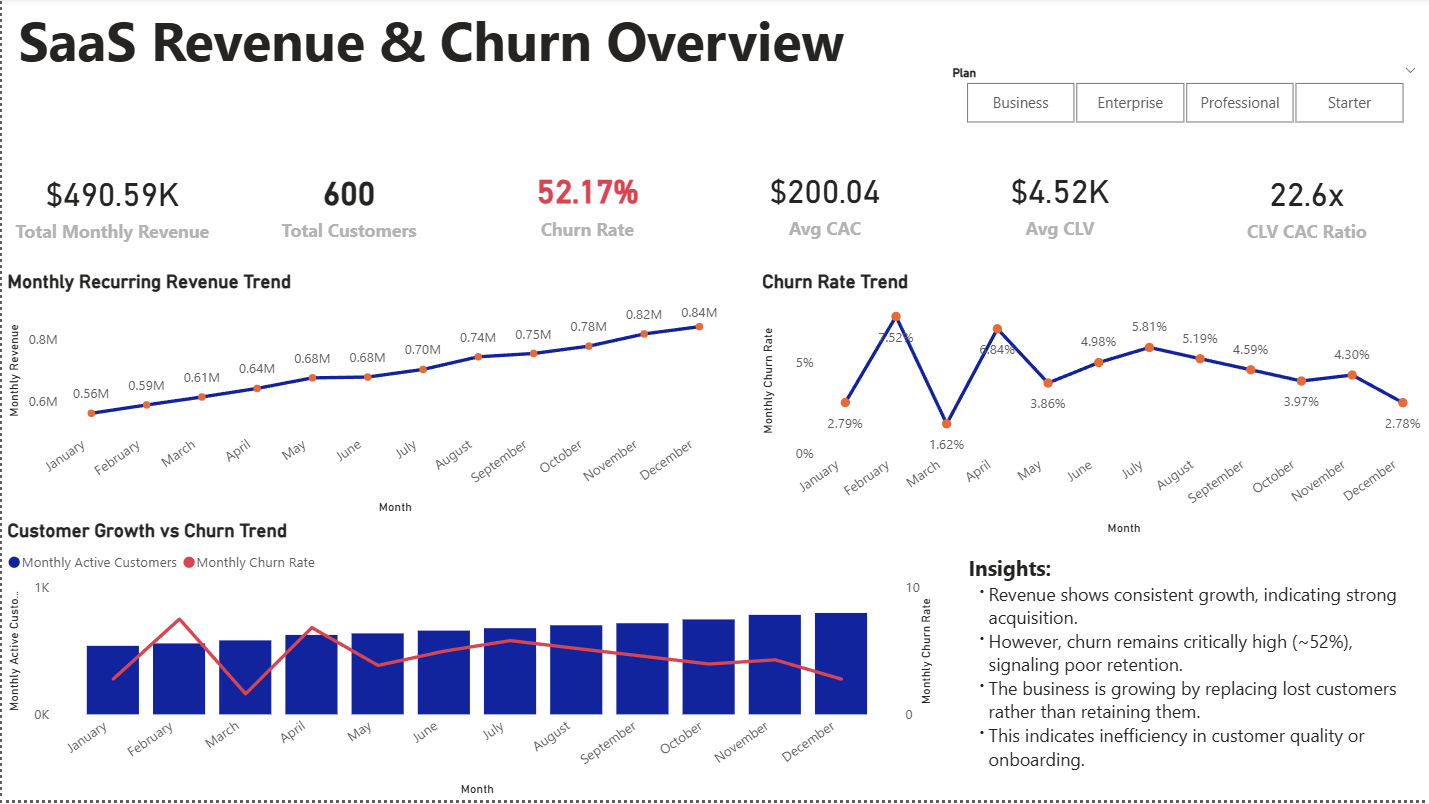

The dashboard page shown, as its layout file describes it:
{"tool":"powerbi","page":{"name":"EXECUTIVE OVERVIEW","canvas":[1280,720],"ordinal":0},"visuals":[{"type":"textbox","box":[9.8,0,778.8,88.2],"z":0},{"type":"card","fields":{"Values":["Measures (2).Total Customers"]},"box":[210.1,142.9,201.7,84],"z":1000},{"type":"card","fields":{"Values":["Measures (2).Churn Rate"]},"box":[424.4,138.7,200.3,89.6],"z":2000},{"type":"card","fields":{"Values":["Measures (2).CLV CAC Ratio"]},"box":[1058.7,142.9,221.3,85.4],"z":3000},{"type":"card","fields":{"Values":["Measures (2).Avg CAC"]},"box":[637.4,138.7,200.3,88.2],"z":4000},{"type":"card","title":"Avg CLV","fields":{"Values":["Measures (2).Avg CLV"]},"box":[850.3,138.7,196.1,88.2],"z":5000},{"type":"lineChart","title":"Monthly Recurring Revenue Trend","fields":{"Category":["monthly_revenue.month.Variation.Date Hierarchy.Month"],"Y":["Sum(monthly_revenue.total_mrr)"]},"box":[0,245.1,650,222.7],"z":6000},{"type":"lineChart","title":"Churn Rate Trend","fields":{"Category":["monthly_revenue.month.Variation.Date Hierarchy.Month"],"Y":["Measures (2).Monthly Churn Rate Corrected"]},"box":[676.6,245.1,602.3,240.9],"z":7000},{"type":"lineClusteredColumnComboChart","title":"Customer Growth vs Churn Trend","fields":{"Y":["Measures (2).Monthly Active Customers"],"Y2":["Measures (2).Monthly Churn Rate"],"Category":["monthly_revenue.month.Variation.Date Hierarchy.Month"]},"box":[0,467.9,839.1,252.1],"z":8000},{"type":"textbox","box":[861.5,494.5,418.8,225.5],"z":9000},{"type":"card","fields":{"Values":["Sum(subscriptions_clean.monthly_revenue)"]},"box":[0,142.9,197.5,85.4],"z":10000},{"type":"slicer","fields":{"Values":["cac.plan"]},"box":[839.1,56,441.2,63],"z":11000}]}

Visuals, with their boxes in screenshot pixels (x1, y1, x2, y2), scaled from the page's 1280x720 canvas onto the 1429x804 screenshot:
textbox: [11,0,880,98]
card - Measures (2).Total Customers: [235,160,460,253]
card - Measures (2).Churn Rate: [474,155,697,255]
card - Measures (2).CLV CAC Ratio: [1182,160,1428,255]
card - Measures (2).Avg CAC: [712,155,935,253]
"Avg CLV" card: [949,155,1168,253]
"Monthly Recurring Revenue Trend" lineChart: [0,274,726,522]
"Churn Rate Trend" lineChart: [755,274,1428,543]
"Customer Growth vs Churn Trend" lineClusteredColumnComboChart: [0,522,937,803]
textbox: [962,552,1428,803]
card - Sum(subscriptions_clean.monthly_revenue): [0,160,220,255]
slicer - cac.plan: [937,63,1428,133]
